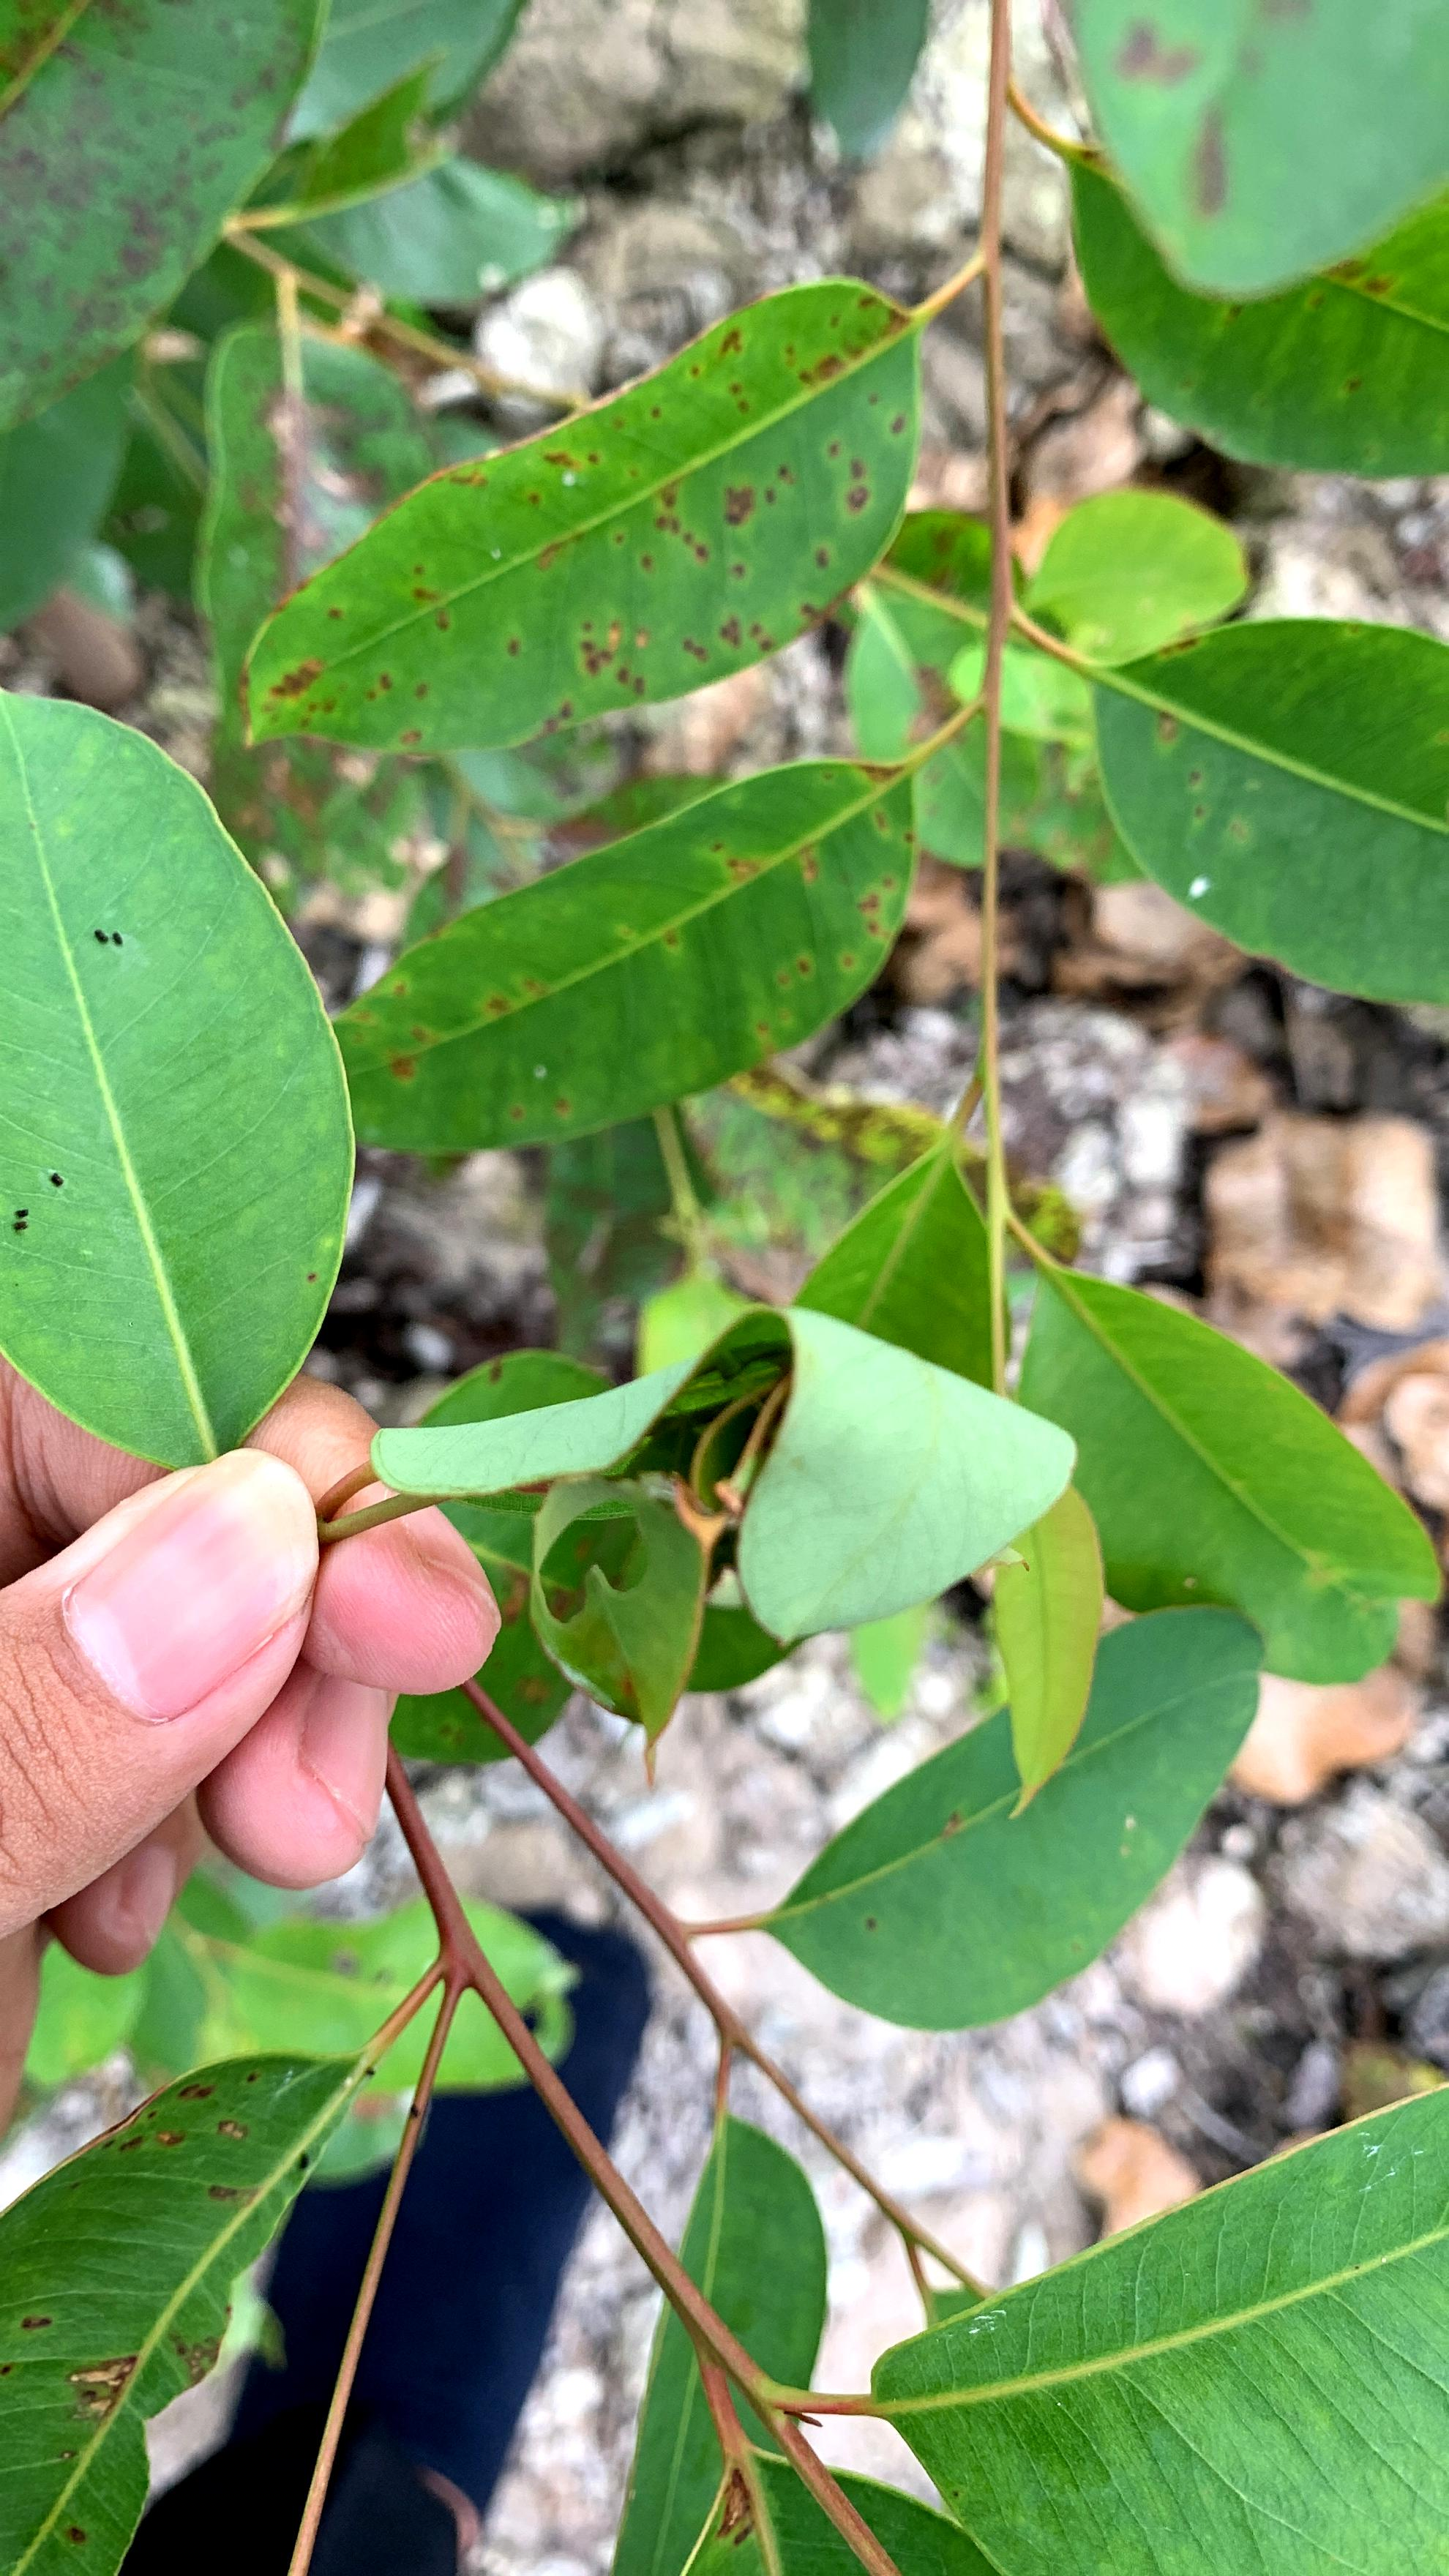Leaf Roller - Leaf: (354, 1260, 1122, 1658)
